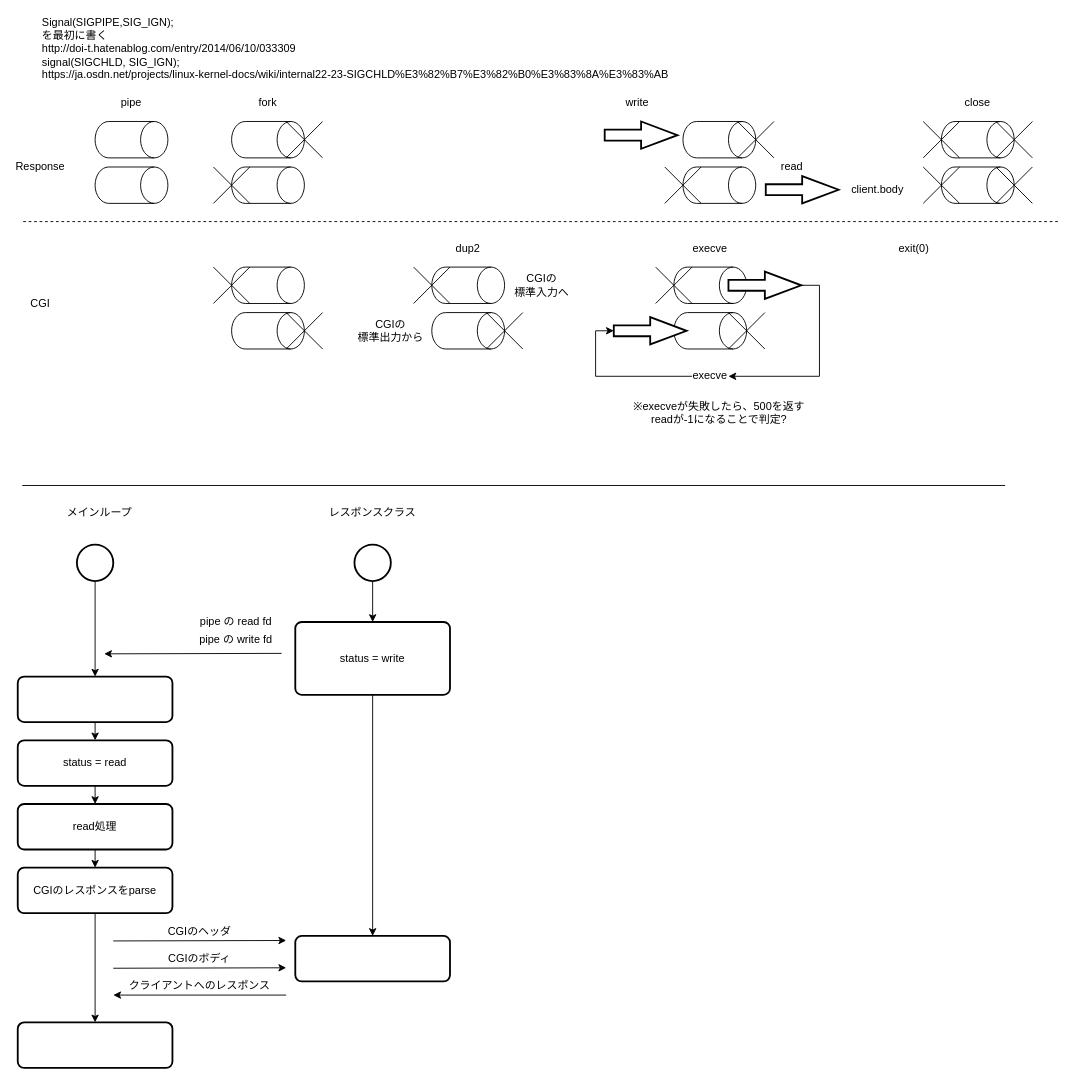
Some shapes in this 1077 by 1084 pixel diagram are drawn without their labels. The shapes that lost their labels are listed below. From the top down, each one's box as (x1, y1, x2, y2) in pixels, then its label:
(16, 675, 173, 723): write処理
(294, 935, 450, 982): ヘッダとボディの結合
(16, 1021, 173, 1068): status = send
